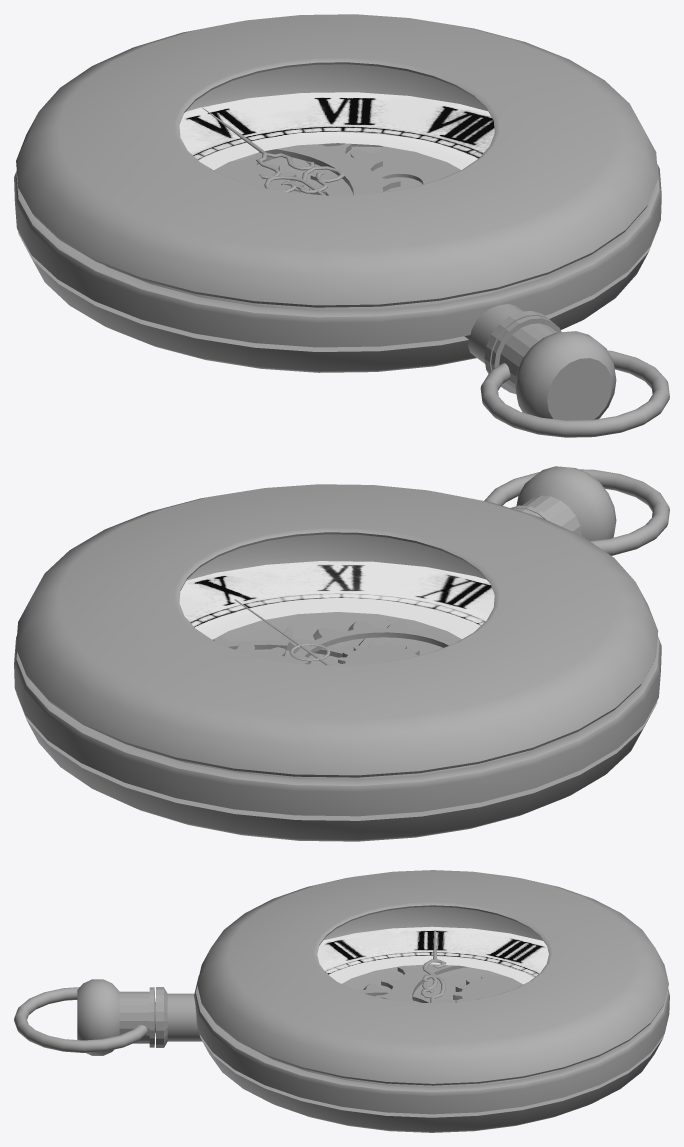
Rendered from PocketWatch_riged.fbx.
3 renders of one model, top to bottom at view 1: azimuth 30°, elevation 25°; view 2: azimuth 150°, elevation 25°; view 3: azimuth 270°, elevation 25°, orthographic. The views are drawn at different scales.
Parts seen in each view (by area): view 1: Watch_Cover, Watch_Body, Dial, Decor, Gear3, Gear1, Pointer_01, Gear5; view 2: Watch_Cover, Watch_Body, Dial, Decor, Gear2, Gear6, Gear4, Gear3; view 3: Watch_Cover, Watch_Body, Dial, Decor, Gear1, Gear5, Pointer_02, Gear2.
Boxes of the visible parts, box(x1,y1,x2,y2) form: Watch_Cover: box(16, 14, 658, 307); Watch_Body: box(14, 64, 661, 372); Dial: box(179, 92, 494, 169); Decor: box(464, 304, 669, 437); Gear3: box(309, 146, 460, 195); Gear1: box(259, 143, 400, 195); Pointer_01: box(202, 107, 344, 195); Gear5: box(214, 159, 303, 193); Watch_Cover: box(16, 484, 658, 777); Watch_Body: box(14, 534, 661, 841); Dial: box(179, 561, 494, 639); Decor: box(484, 466, 669, 555); Gear2: box(284, 620, 461, 658); Gear6: box(338, 642, 420, 665); Gear4: box(213, 626, 364, 657); Gear3: box(234, 643, 311, 664); Watch_Cover: box(197, 870, 668, 1085); Watch_Body: box(194, 906, 669, 1132); Dial: box(317, 926, 548, 984); Decor: box(14, 979, 202, 1055); Gear1: box(375, 964, 467, 1002); Gear5: box(453, 974, 522, 1002); Pointer_02: box(421, 930, 445, 1002); Gear2: box(349, 983, 451, 1003).
Size of the model in its own units: 15 by 3.48 by 20.67.
